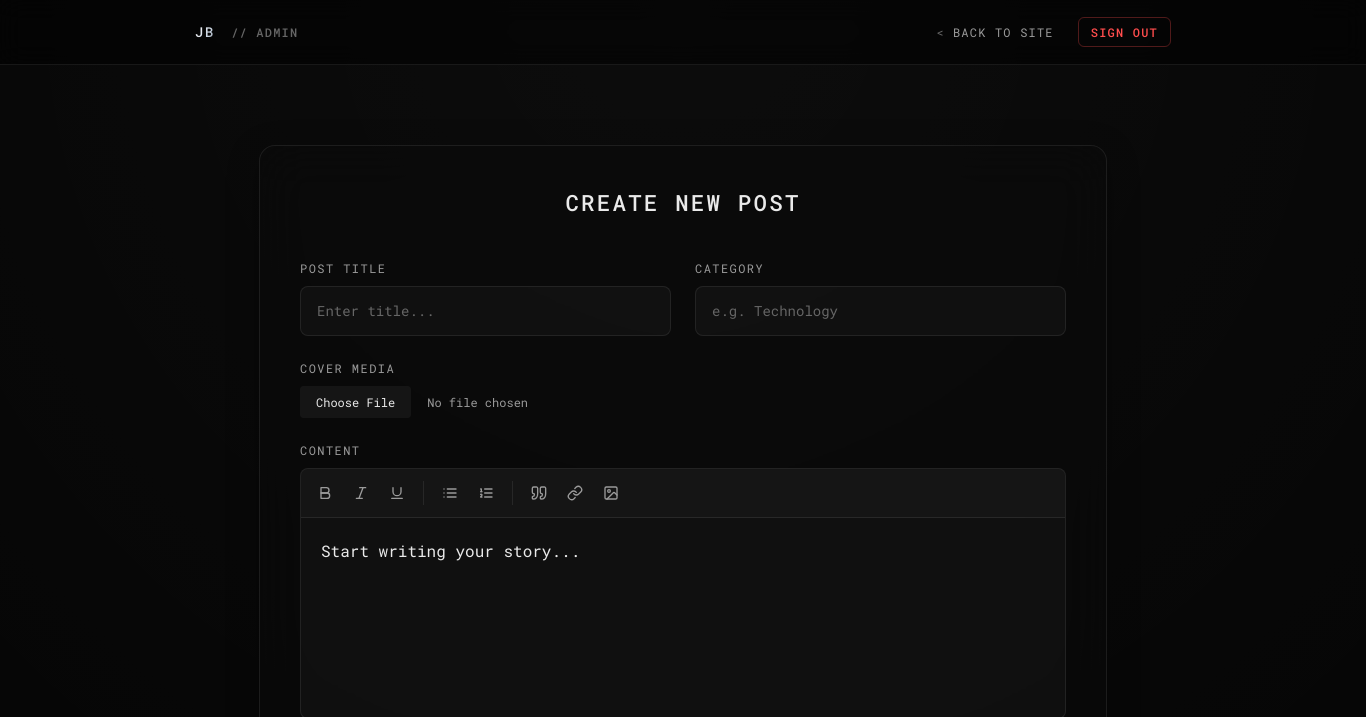
Scenario: AdminDashboard › shows content validation error when title is set but content unchanged
Type "My Title" into the field with placeholder "Enter title..." at (486, 311), box [300,286,671,336]
(page scrolled)
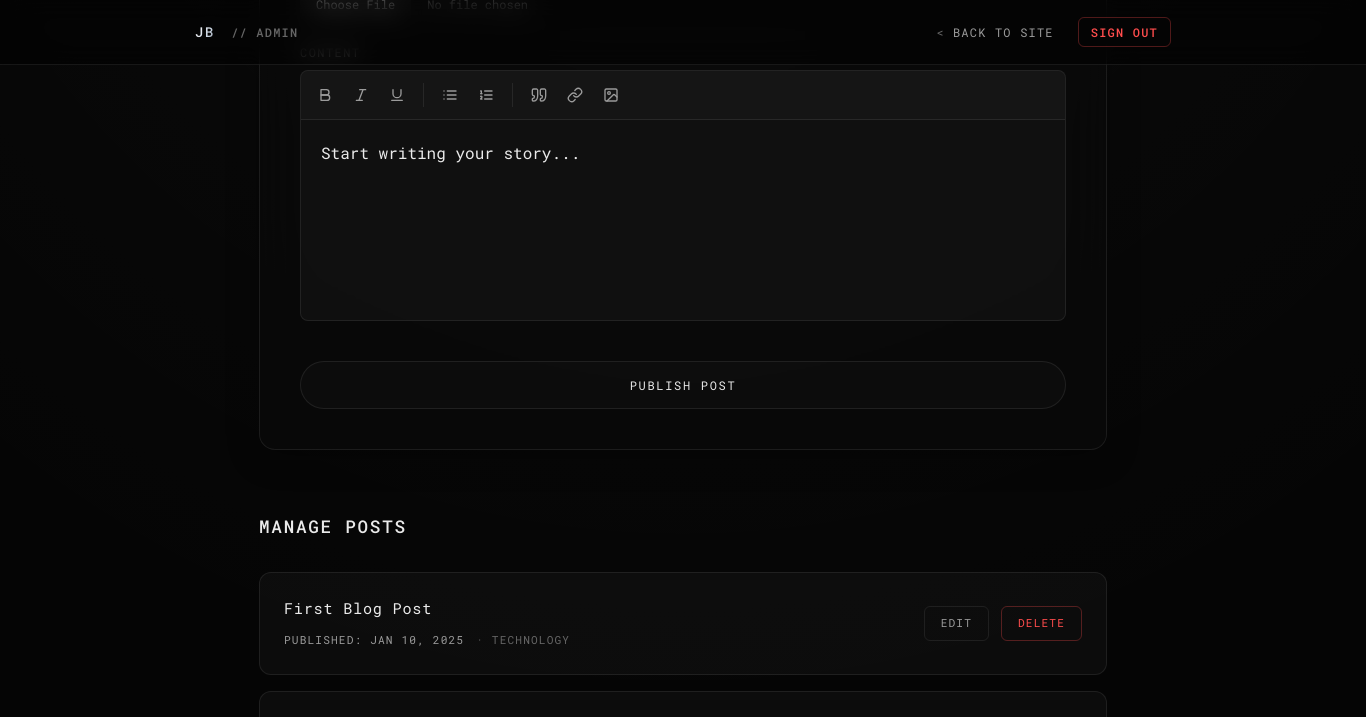
Click the button "PUBLISH POST" at (683, 385), box [300,361,1066,409]
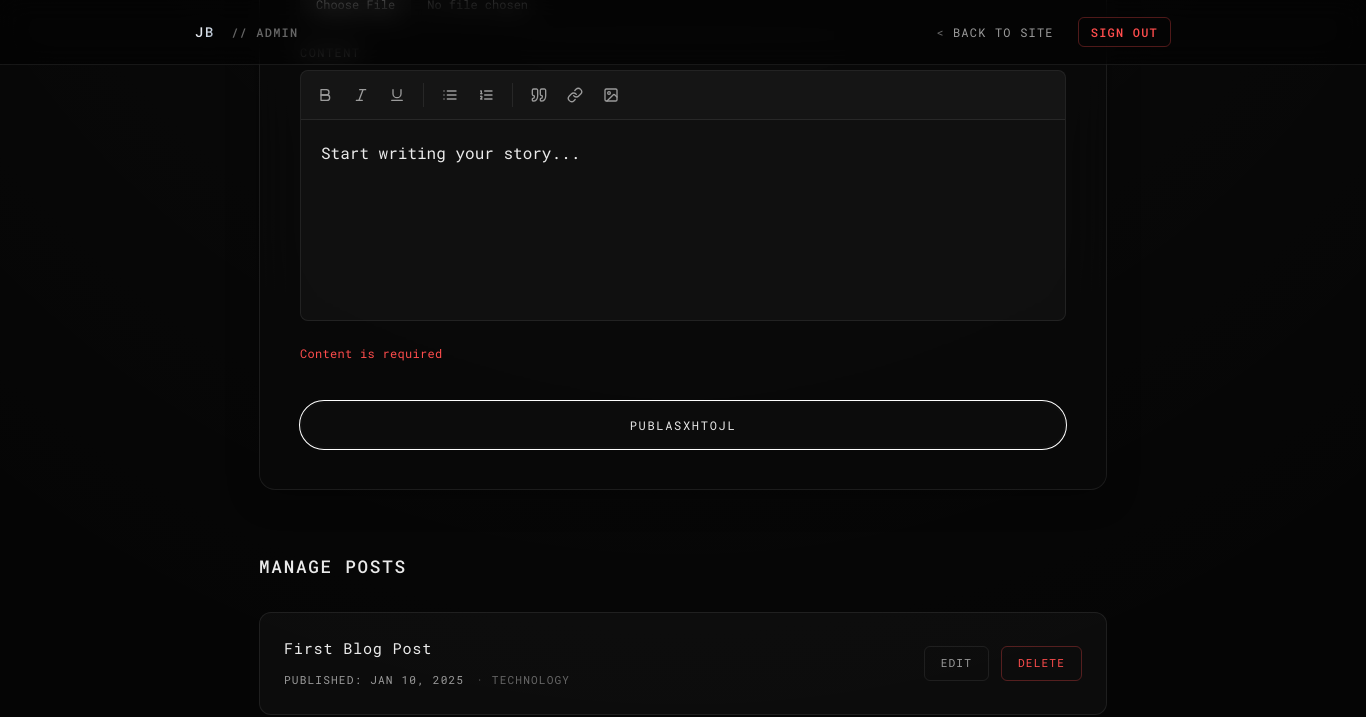
Result: the text "Content is required" is shown at [300,345,442,361]
